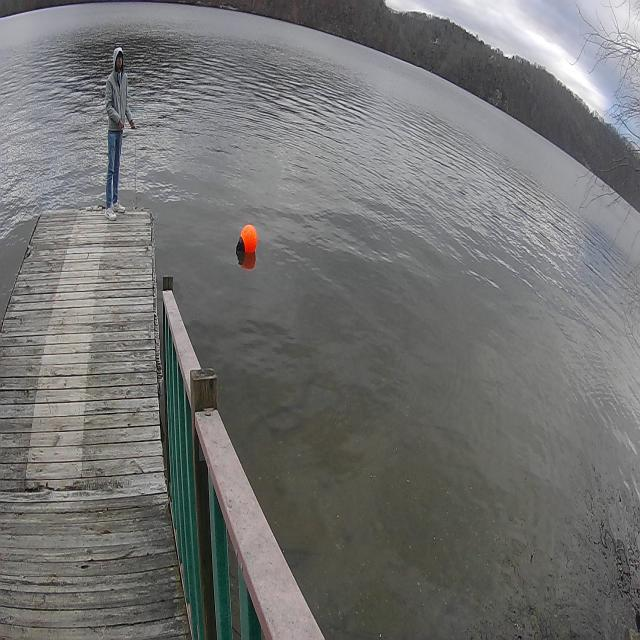Buoy: (236, 222, 258, 266)
